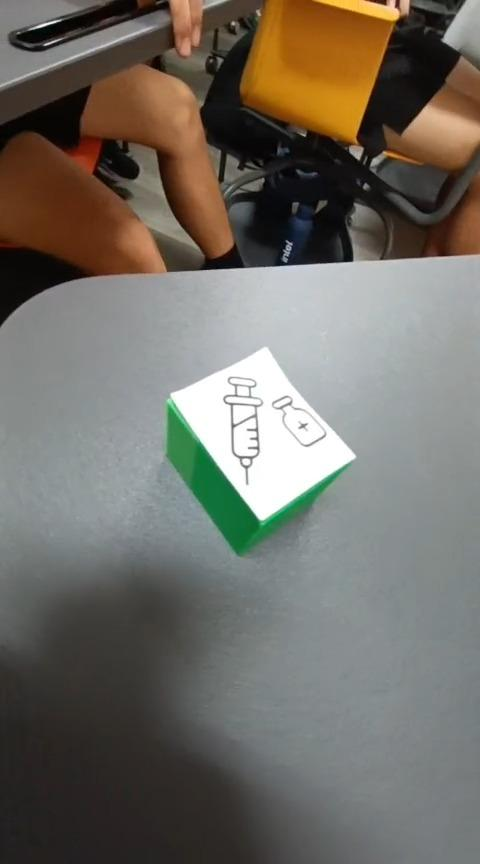antiseptic cream: (165, 347, 355, 556)
